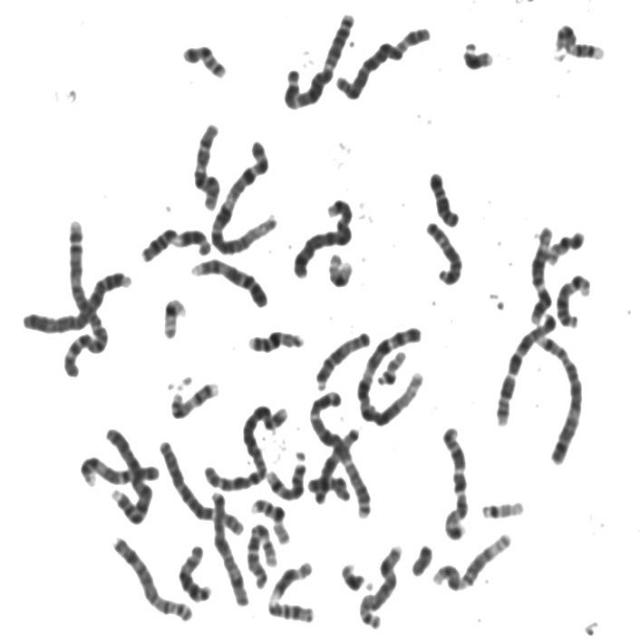A1: (207, 133, 280, 258), (351, 318, 427, 429)
A2: (57, 214, 112, 378), (200, 398, 290, 492)
A3: (304, 386, 375, 520), (279, 5, 357, 110)
B4: (18, 262, 134, 336), (100, 419, 155, 526)
B5: (526, 332, 586, 468), (288, 192, 357, 280)
C10: (188, 115, 224, 212), (242, 516, 278, 591)
C11: (263, 555, 318, 625), (136, 220, 215, 264)
C12: (428, 526, 515, 593), (525, 218, 556, 327)
C6: (155, 433, 247, 537), (331, 18, 434, 102)
C7: (492, 305, 560, 427), (437, 420, 472, 543)
C8: (107, 530, 196, 624), (354, 538, 406, 630)
C9: (187, 251, 271, 309), (74, 448, 164, 488)
D13: (310, 422, 365, 509), (173, 538, 215, 604)
D14: (552, 267, 594, 329), (261, 448, 308, 502)
D15: (311, 324, 373, 392), (421, 214, 466, 287)
E16: (246, 493, 292, 546), (243, 323, 307, 355)
E17: (550, 17, 608, 63), (166, 374, 221, 420)
E18: (423, 164, 462, 228), (304, 469, 354, 503)
F19: (158, 289, 189, 341), (324, 248, 355, 288)
F20: (177, 36, 230, 80), (542, 223, 588, 266)
G21: (336, 556, 376, 594), (458, 36, 497, 72)
G22: (372, 344, 409, 388), (477, 494, 528, 520)
X: (207, 484, 252, 607)
Y: (407, 538, 435, 578)
